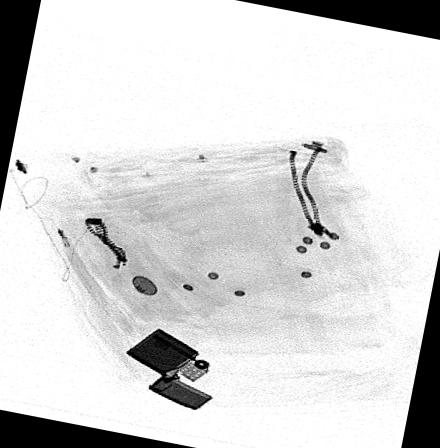Lighter: (123, 327, 212, 410)
